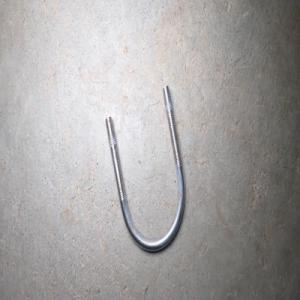ClampPart: (104, 84, 186, 253)
